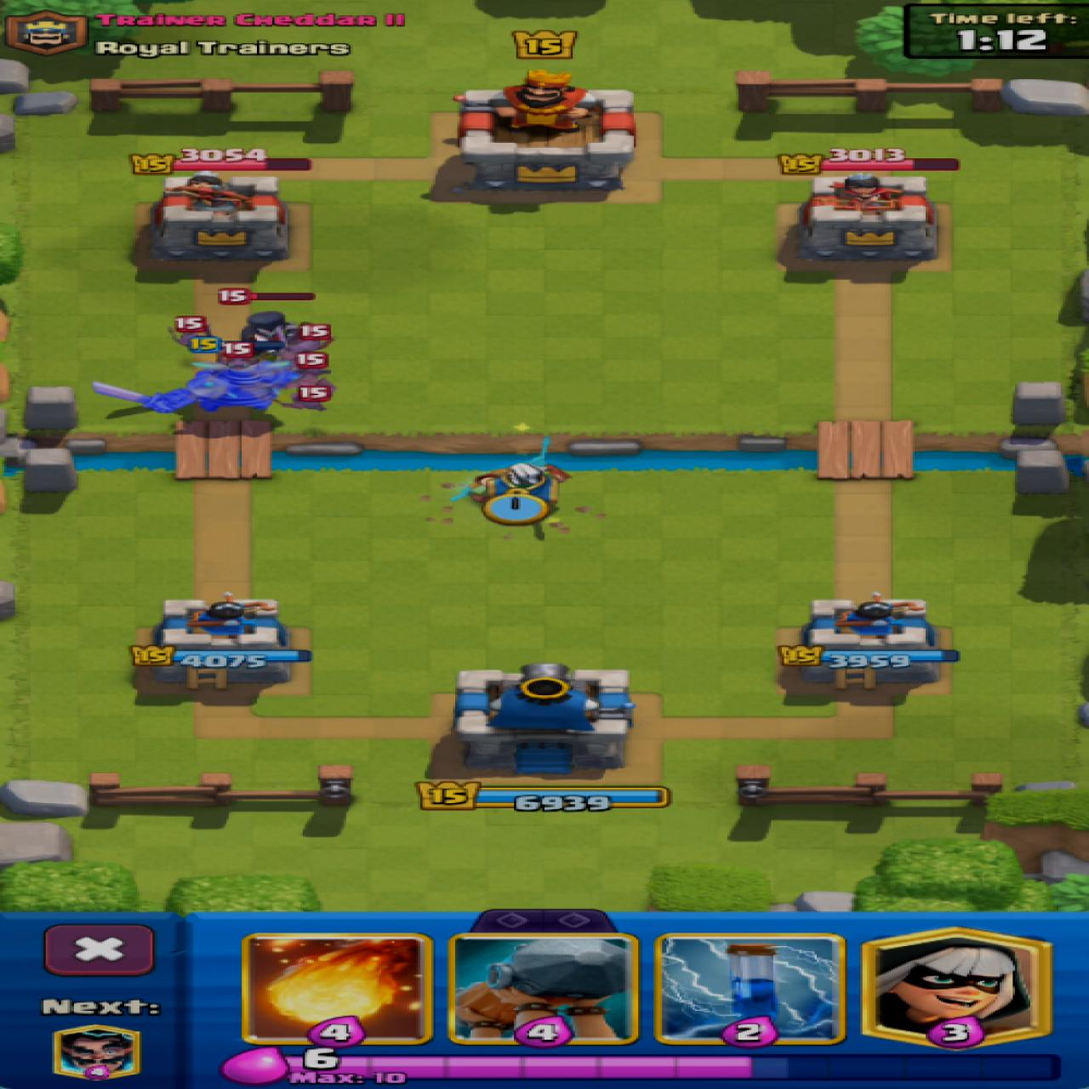Enemy-Bat: (281, 325, 331, 366), (290, 375, 333, 410), (294, 352, 327, 376), (174, 316, 207, 339), (224, 341, 250, 368)
Enemy-KingTower: (457, 72, 634, 193)
Enemy-NightWitch: (242, 313, 294, 340)
Enemy-PrincessTower: (150, 171, 287, 261), (799, 175, 934, 262)
